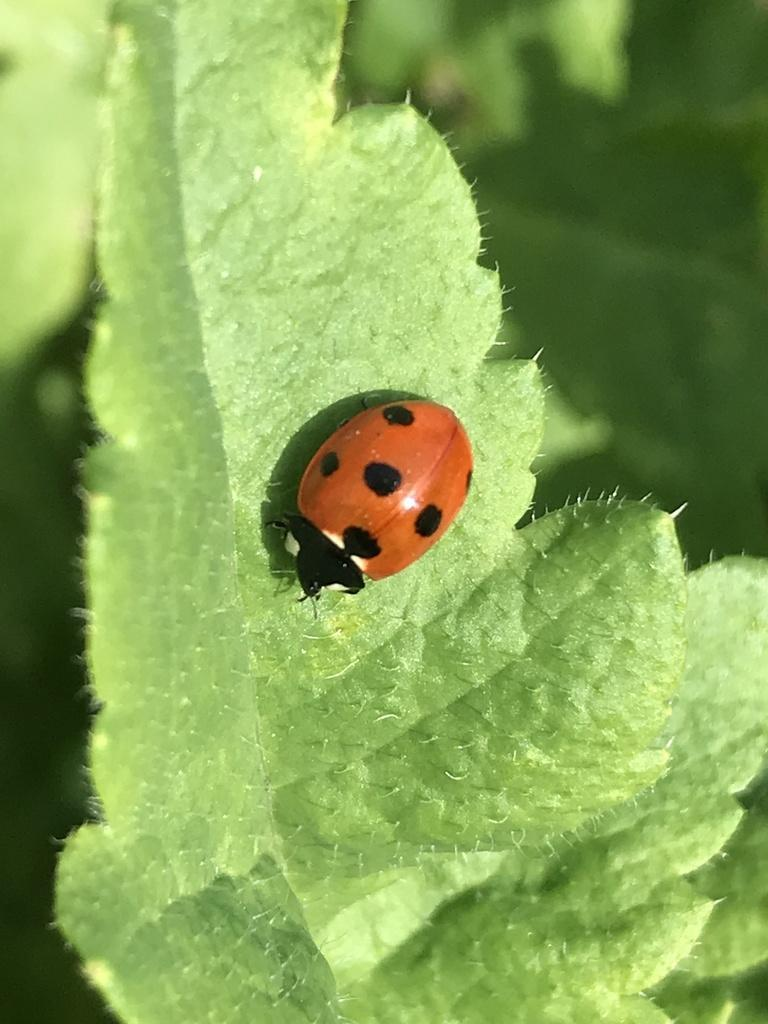ladybug: (264, 394, 481, 621)
